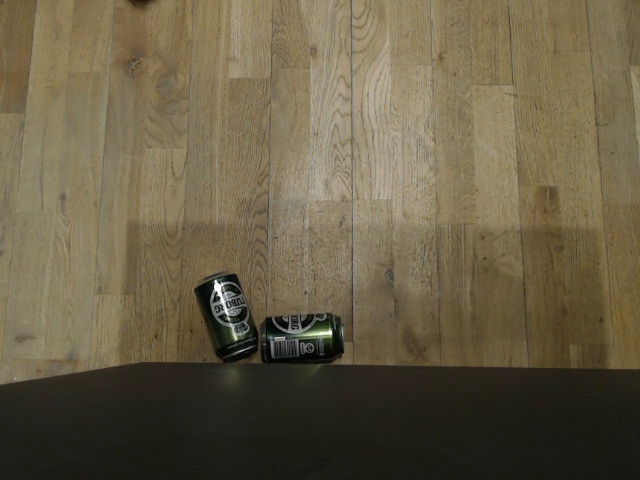beer: (191, 269, 259, 360), (260, 311, 346, 364)
